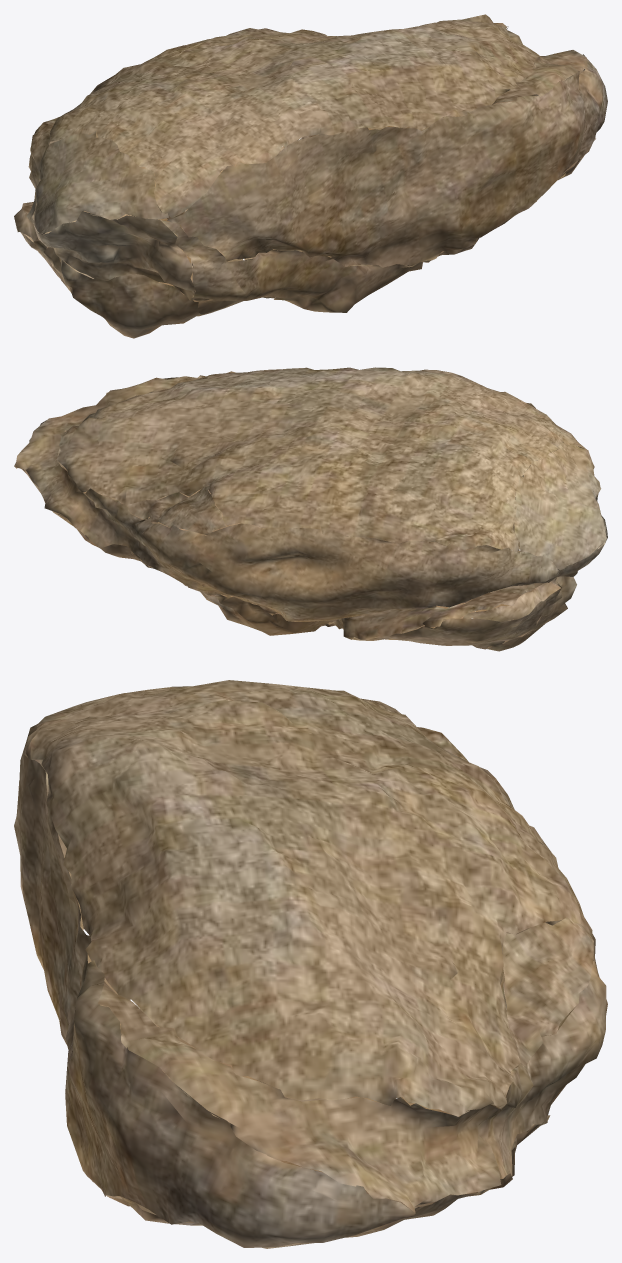
Rendered from namaqualand_boulder_05.glb.
The picture shows the model from 3 angles, top to bottom: view 1: azimuth 30°, elevation 25°; view 2: azimuth 150°, elevation 25°; view 3: azimuth 270°, elevation 25°; orthographic projection. The views are drawn at different scales.
Parts seen in each view (by area): view 1: namaqualand_boulder_05; view 2: namaqualand_boulder_05; view 3: namaqualand_boulder_05.
Part boxes in pixels (bbox=[...]): namaqualand_boulder_05: bbox=[14, 14, 607, 338]; namaqualand_boulder_05: bbox=[14, 367, 607, 651]; namaqualand_boulder_05: bbox=[14, 680, 607, 1248].
Size of the model in its own units: 1.36 by 0.5365 by 0.7456.
1 material, 1 textured.
